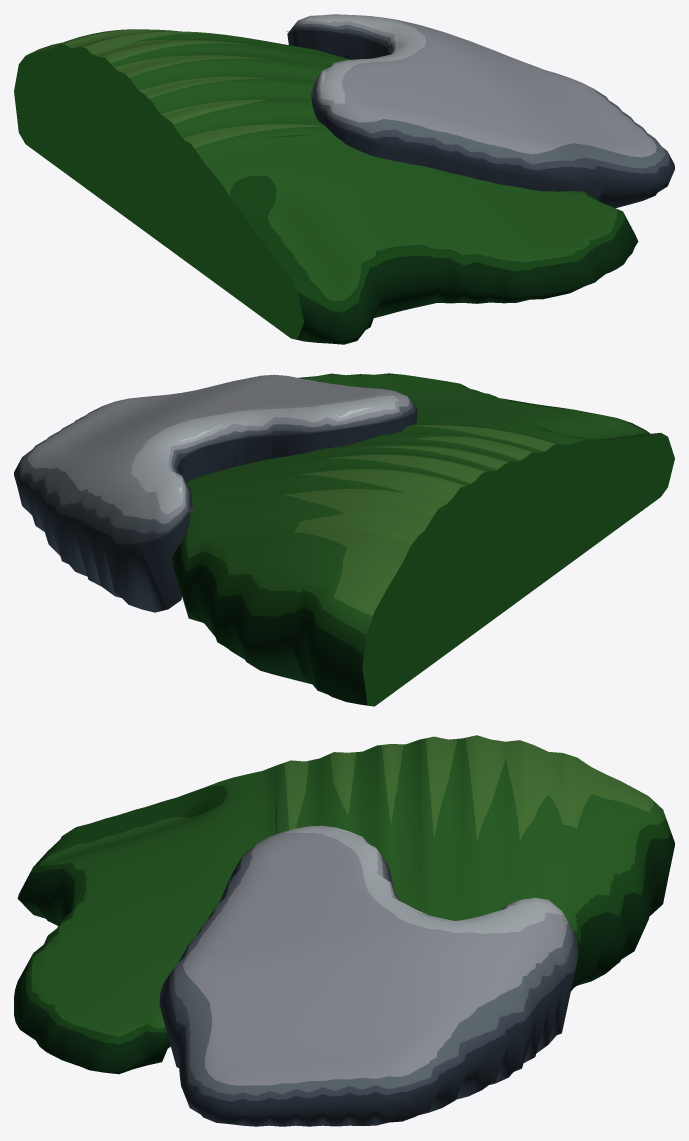
Rendered from torm_beetle_seg2_r.glb.
3 views of the same model, one above another, from view 1: azimuth 30°, elevation 25°; view 2: azimuth 150°, elevation 25°; view 3: azimuth 270°, elevation 25° (orthographic). The views are drawn at different scales.
Parts seen in each view (by area): view 1: torm_beetle_seg2_r; view 2: torm_beetle_seg2_r; view 3: torm_beetle_seg2_r.
Boxes of the visible parts, left/top/right/bottom form: torm_beetle_seg2_r: left=14, top=14, right=674, bottom=344; torm_beetle_seg2_r: left=14, top=373, right=674, bottom=706; torm_beetle_seg2_r: left=14, top=735, right=674, bottom=1126.
Bounding box in the file's own units: 24 × 7.48 × 28.
